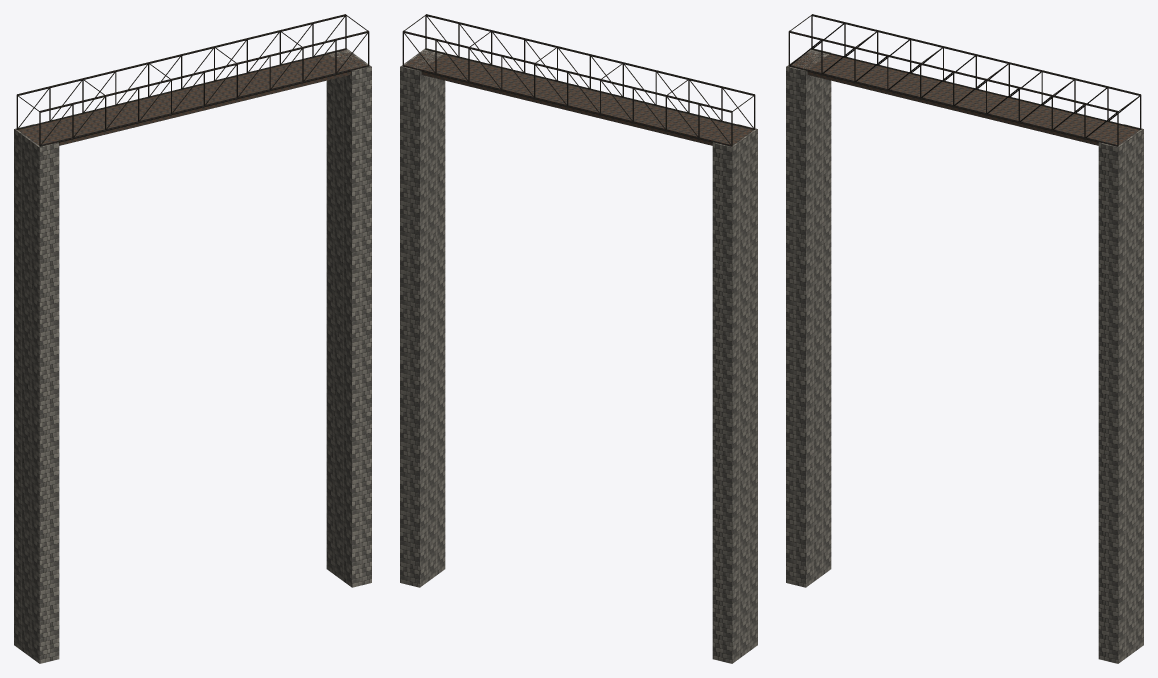
File: puente_hierro.obj
3 views of the same model, side by side, from view 1: azimuth 30°, elevation 25°; view 2: azimuth 150°, elevation 25°; view 3: azimuth 330°, elevation 25° (orthographic).
Visible parts, largest first — view 1: puente_hierro; view 2: puente_hierro; view 3: puente_hierro.
Part boxes in pixels (<box>): puente_hierro: <box>14,14,371,663</box>; puente_hierro: <box>400,14,757,663</box>; puente_hierro: <box>786,14,1143,663</box>.
Size of the model in its own units: 40.4 by 64.12 by 5.4.
Materials: 3 (3 with a texture image).
